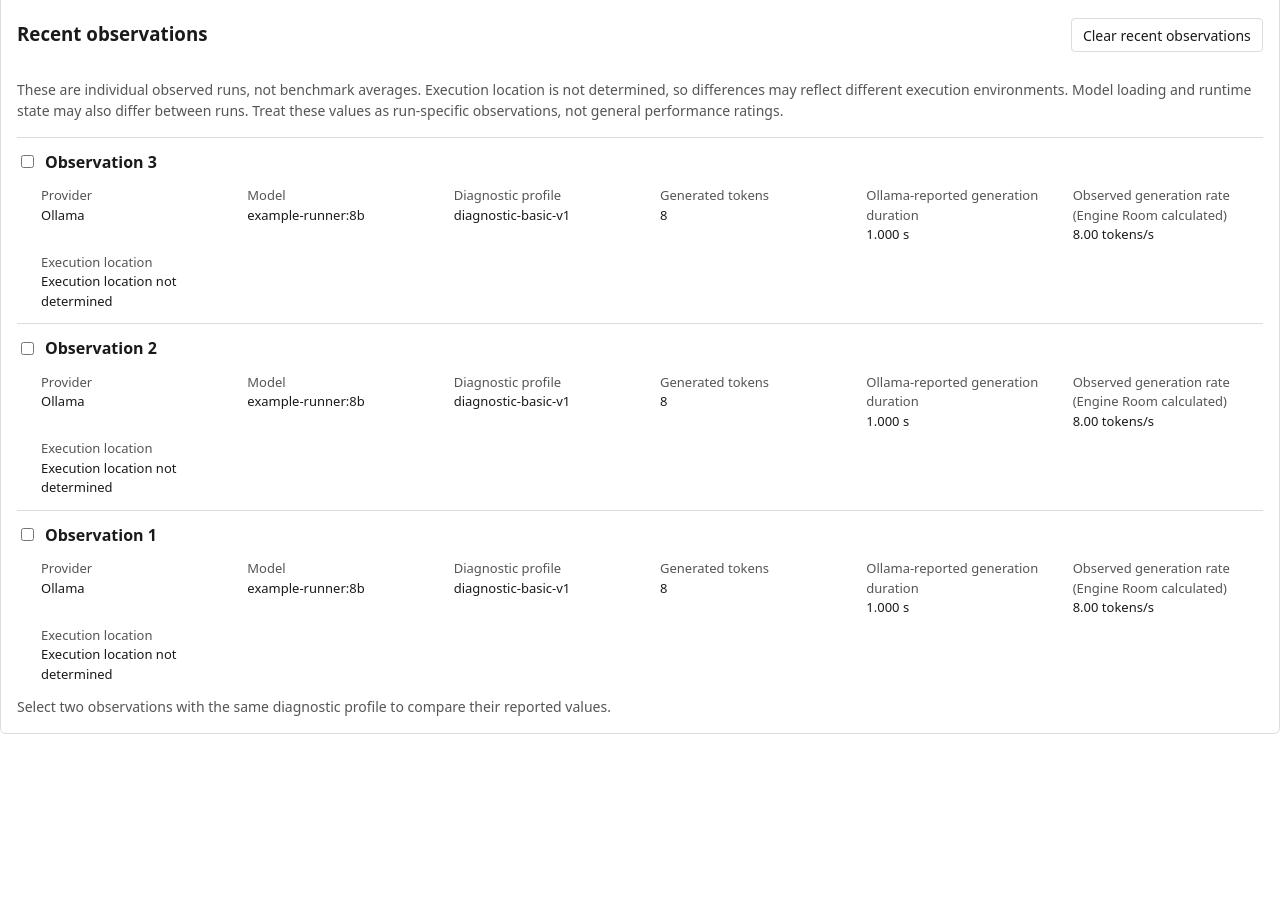
Test: RecentObservations › limits selection to two without running or exposing a rerun action
Click the checkbox labelled "Observation 3" at (28, 162), box [21,155,34,168]
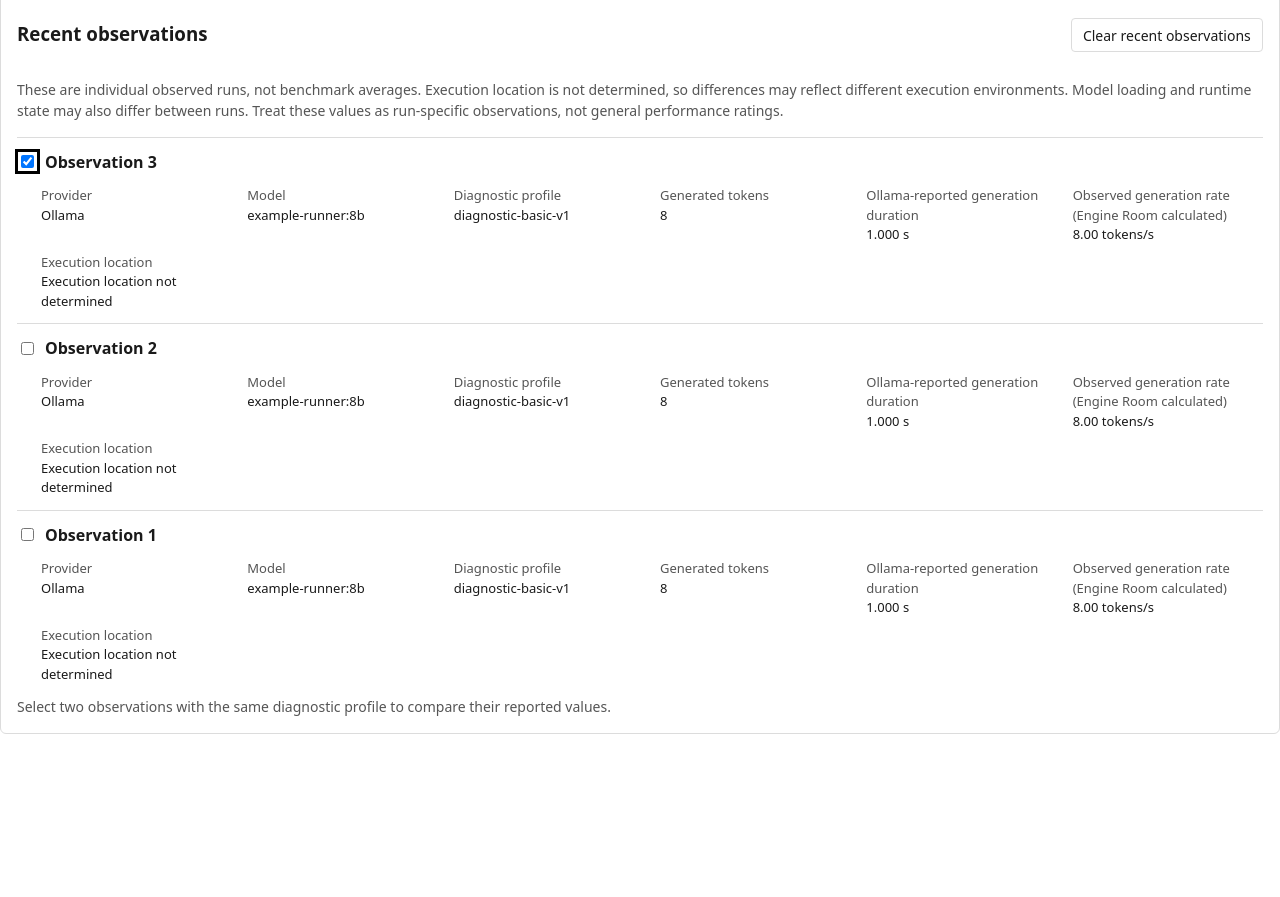
Click the checkbox labelled "Observation 2" at (28, 348), box [21,342,34,354]
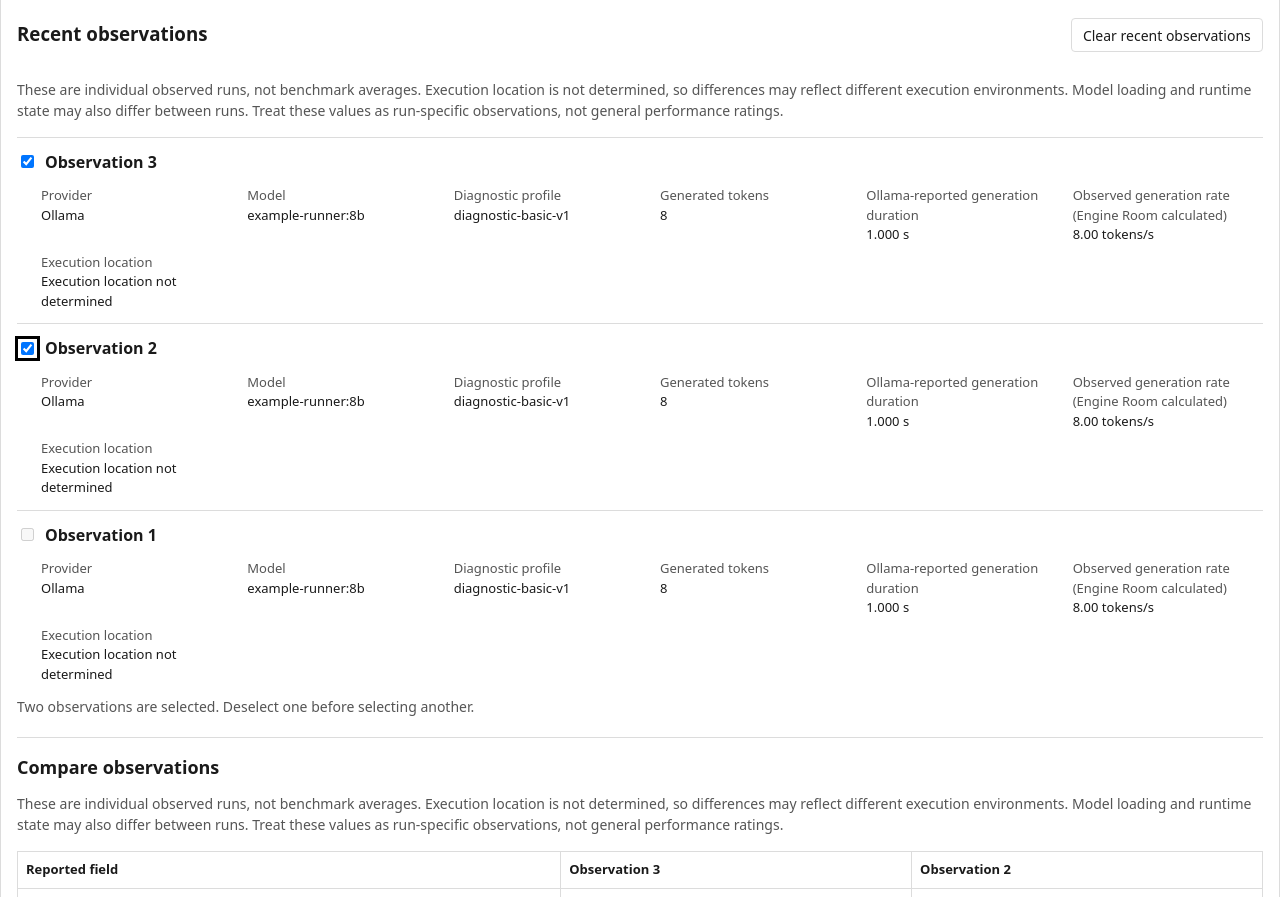
Result: the checkbox labelled "Observation 1" is disabled at [21,528,34,541]
